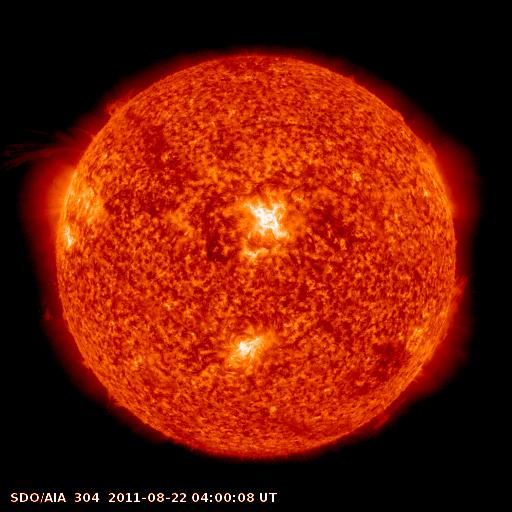prominence: (1, 119, 100, 174), (421, 270, 478, 363), (101, 84, 138, 121), (358, 402, 398, 436), (414, 133, 442, 166)
